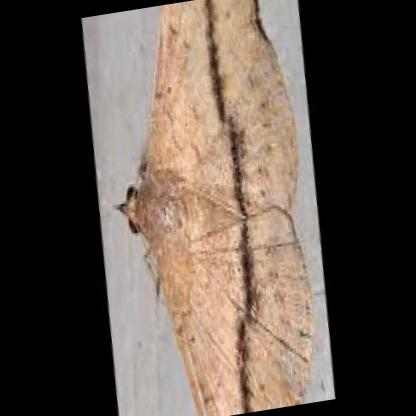Leaf Webber: (119, 0, 319, 416)
